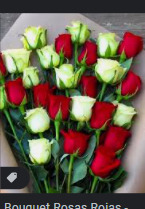RedRose: (88, 149, 121, 184), (61, 125, 91, 153), (117, 29, 143, 59), (84, 102, 110, 131), (121, 70, 145, 101), (31, 75, 54, 107), (103, 126, 131, 151), (2, 77, 24, 108), (79, 40, 100, 69), (55, 30, 75, 60), (49, 96, 72, 119), (83, 73, 103, 99)
